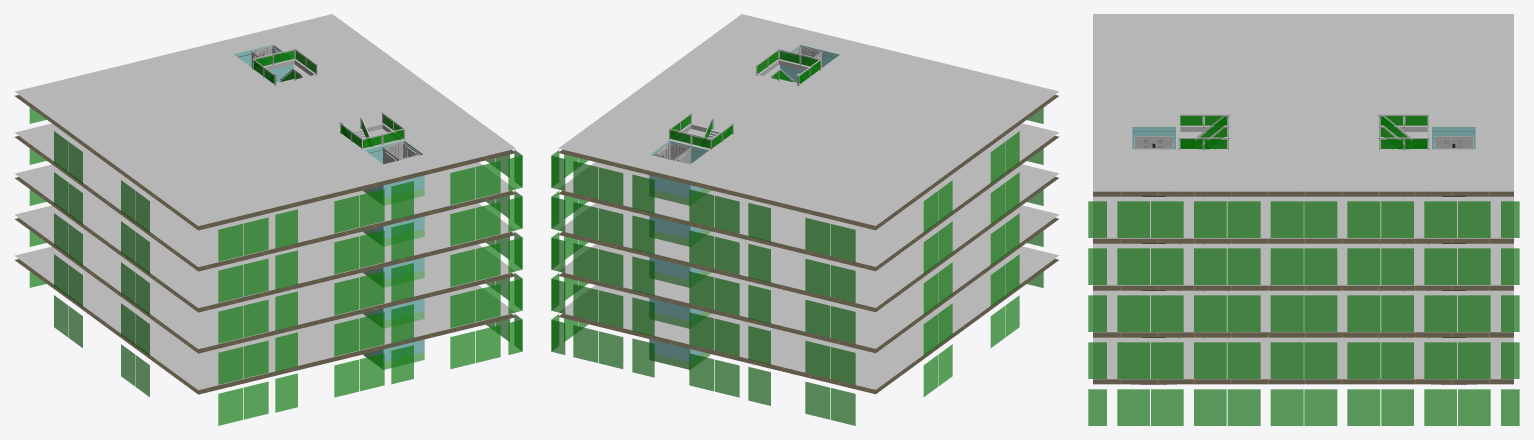
The model's file is SM_Building12_Interior03.fbx.
3 renders of one model, left to right at view 1: azimuth 30°, elevation 25°; view 2: azimuth 150°, elevation 25°; view 3: azimuth 270°, elevation 25°, orthographic. The views are drawn at different scales.
Parts seen in each view (by area): view 1: SM_Building12_Interior03; view 2: SM_Building12_Interior03; view 3: SM_Building12_Interior03.
Boxes of the visible parts, x1=… form: SM_Building12_Interior03: x1=14, y1=14, x2=522, y2=425; SM_Building12_Interior03: x1=551, y1=14, x2=1059, y2=425; SM_Building12_Interior03: x1=1088, y1=14, x2=1519, y2=425.
Bounding box in the file's own units: 3373 × 2132 × 3373.
